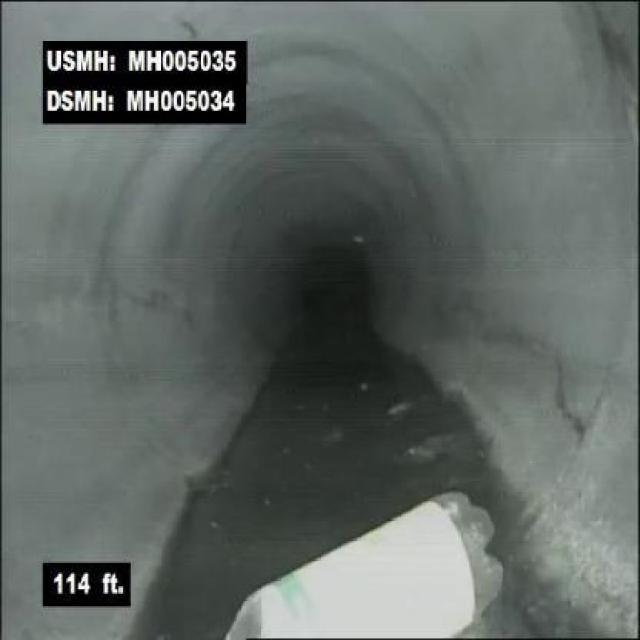Crack: (486, 328, 594, 440), (177, 20, 205, 38)
